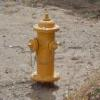Hydrant: (24, 10, 67, 88)
